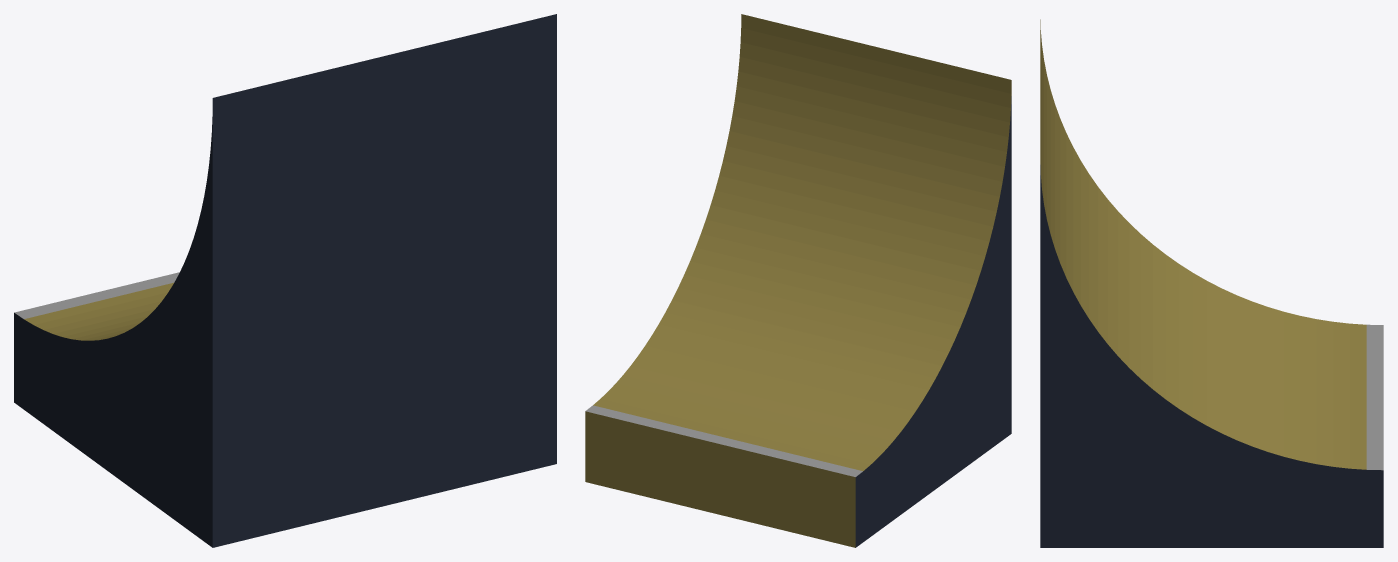
Rendered from Bowl Straight Connect.fbx.
The picture shows the model from 3 angles, left to right: view 1: azimuth 30°, elevation 25°; view 2: azimuth 150°, elevation 25°; view 3: azimuth 270°, elevation 25°; orthographic projection. The views are drawn at different scales.
Parts seen in each view (by area): view 1: Bowl Straight Connect; view 2: Bowl Straight Connect; view 3: Bowl Straight Connect.
Boxes of the visible parts, x1=… form: Bowl Straight Connect: x1=14, y1=14, x2=556, y2=547; Bowl Straight Connect: x1=585, y1=14, x2=1011, y2=547; Bowl Straight Connect: x1=1040, y1=19, x2=1383, y2=547.
Bounding box in the file's own units: 800 × 1000 × 800.
